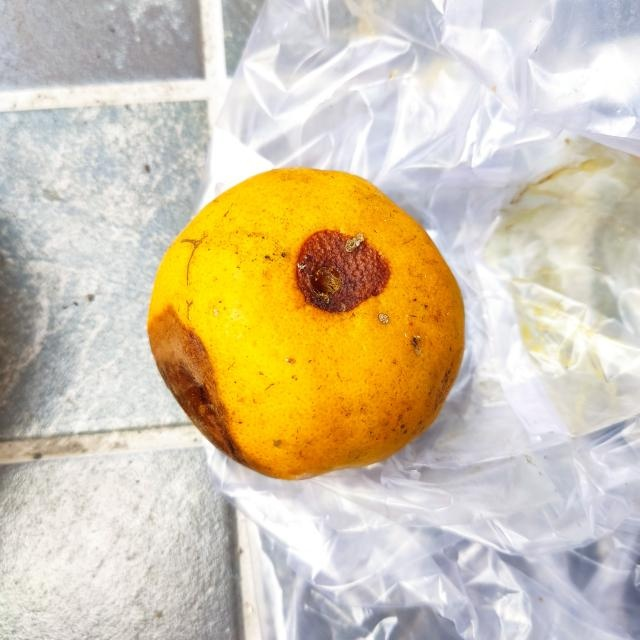agrume: (143, 161, 469, 484)
